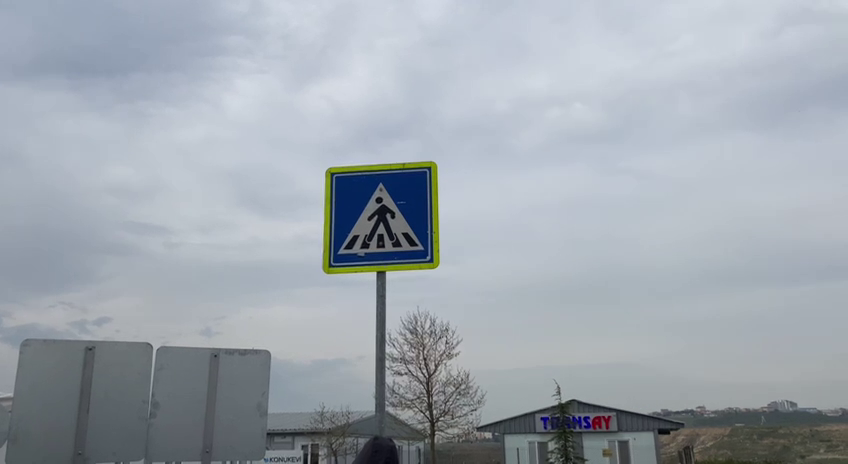pedestrianCrossing: (315, 154, 443, 278)
